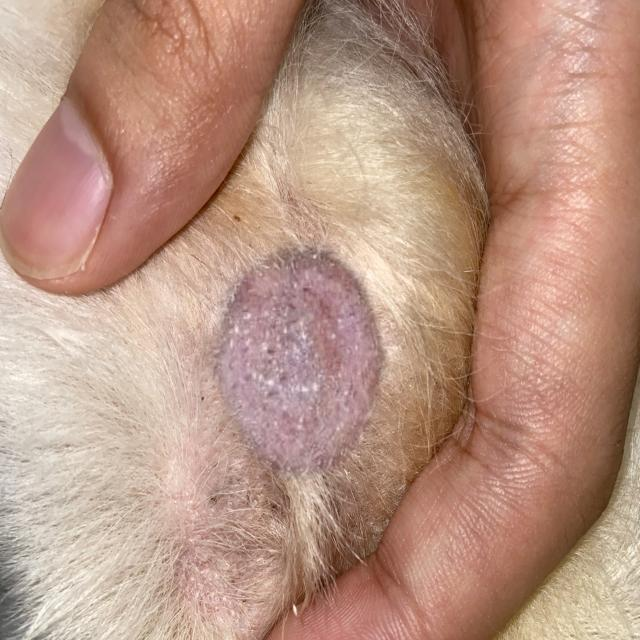ringworm: (167, 205, 377, 457)
